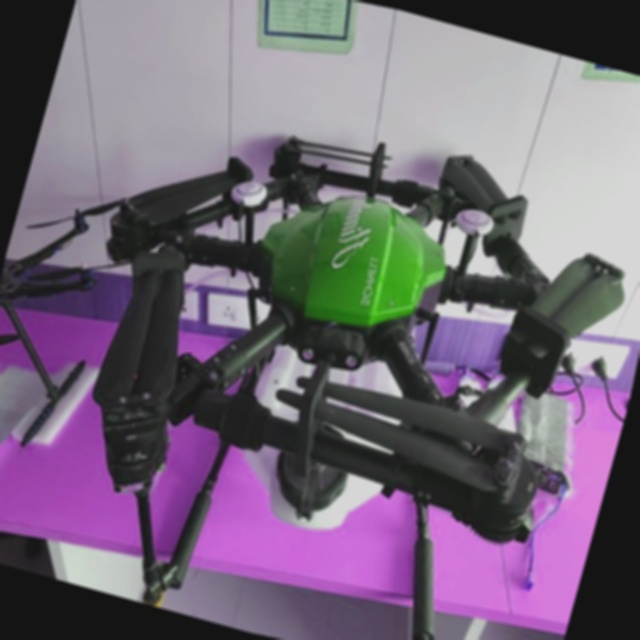agriculturedrone: (0, 30, 640, 640)
